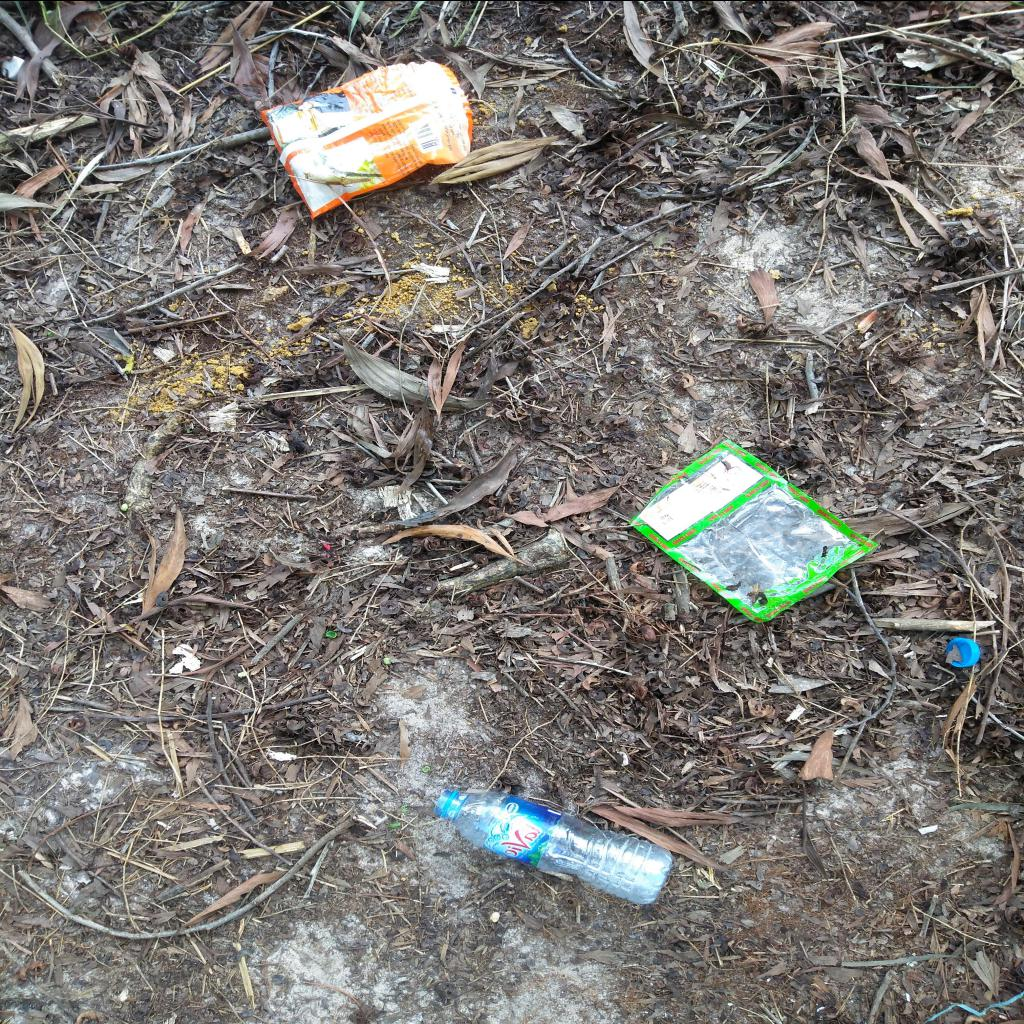Clear plastic bottle: (434, 789, 674, 903)
Other plastic: (628, 438, 880, 623), (262, 60, 474, 217)
Plastic bottle cap: (946, 636, 980, 666), (2, 55, 24, 80)
Unlabeled litter: (925, 992, 1022, 1020)
